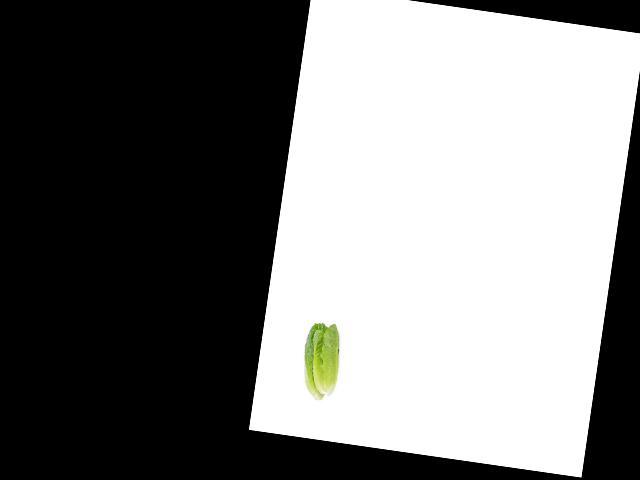lettuce: (298, 319, 349, 402)
